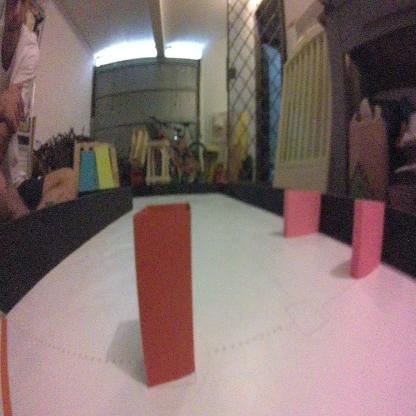magenta: (346, 194, 387, 282), (283, 183, 322, 242)
red: (129, 197, 200, 390)
